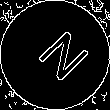N_SW: (23, 23, 87, 87)
